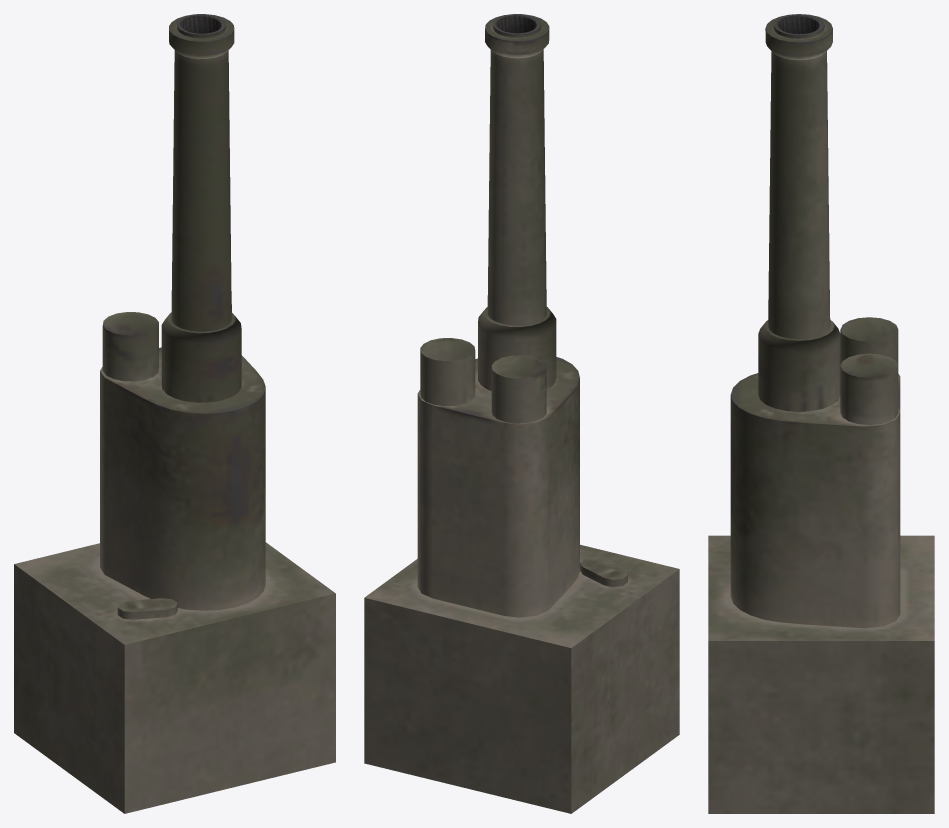
Rendered from Gun_04.glb.
3 views of the same model, side by side, from view 1: azimuth 30°, elevation 25°; view 2: azimuth 150°, elevation 25°; view 3: azimuth 270°, elevation 25° (orthographic). The views are drawn at different scales.
Parts seen in each view (by area): view 1: set_0_group_0; view 2: set_0_group_0; view 3: set_0_group_0.
Boxes of the visible parts, x1,y1,x2,y2 form: set_0_group_0: (14, 14, 335, 813); set_0_group_0: (364, 14, 679, 813); set_0_group_0: (708, 14, 934, 813).
Size of the model in its own units: 0.4624 by 1.52 by 0.4188.
Materials: 1 (1 with a texture image).
